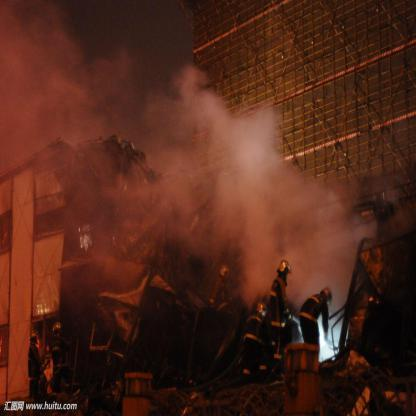smoke: (244, 139, 276, 267), (2, 36, 44, 130), (304, 219, 346, 276), (279, 184, 332, 217), (216, 167, 240, 234), (187, 96, 218, 117)
